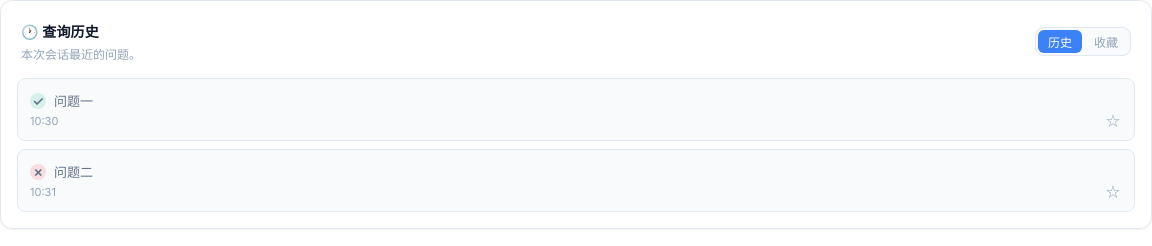
it: HistoryPanel › 切换到收藏 Tab
The width and height of the screenshot is (1152, 246).
Click the button with class "tab-btn" showing "收藏". click: (1106, 42)
box: [1084, 30, 1128, 53]
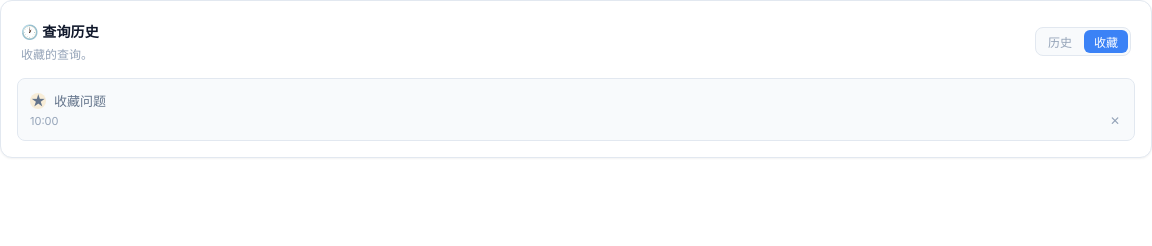
Expected: the text "收藏问题" is shown, [54, 93, 106, 109]
